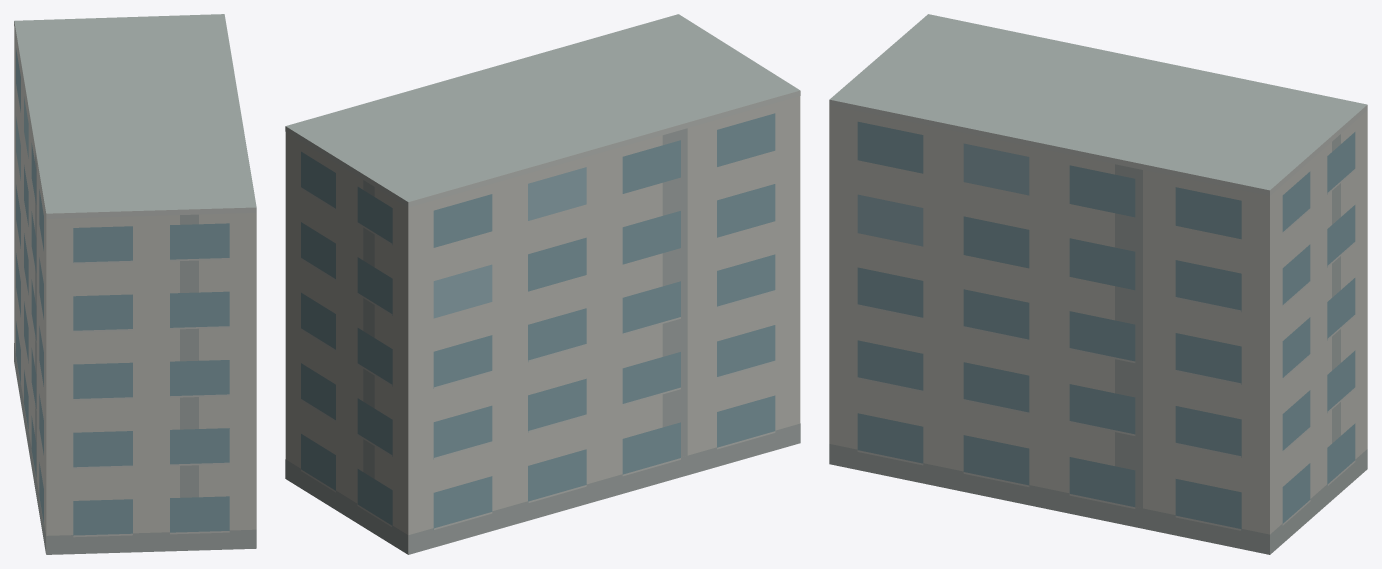
Rendered from survey-upis-32593295.glb.
The picture shows the model from 3 angles, left to right: view 1: azimuth 30°, elevation 25°; view 2: azimuth 150°, elevation 25°; view 3: azimuth 270°, elevation 25°; orthographic projection. The views are drawn at different scales.
Parts seen in each view (by area): view 1: survey-upis-32593295.tmp; view 2: survey-upis-32593295.tmp; view 3: survey-upis-32593295.tmp.
Part boxes in pixels (x1=…): survey-upis-32593295.tmp: x1=14, y1=14, x2=256, y2=554; survey-upis-32593295.tmp: x1=285, y1=14, x2=800, y2=554; survey-upis-32593295.tmp: x1=829, y1=14, x2=1367, y2=554.
Size of the model in its own units: 15.99 by 15.4 by 20.62.
